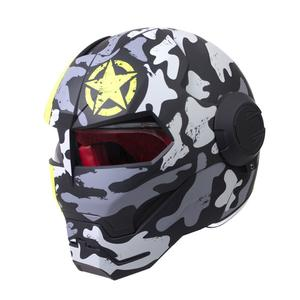with_helmet: (50, 25, 264, 272)
